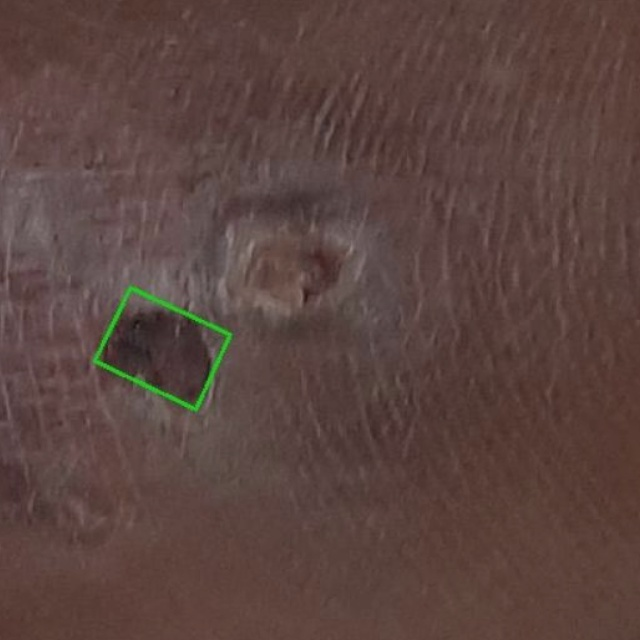Eczema: (95, 287, 231, 409)
